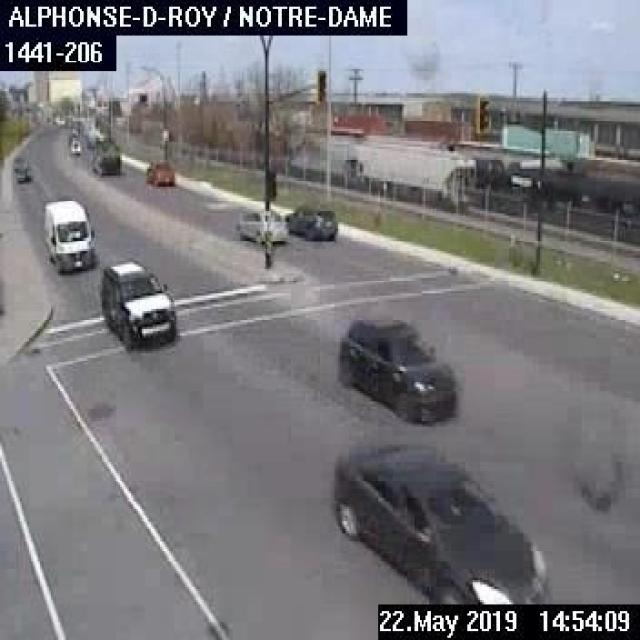vehicle: (332, 442, 545, 602), (334, 314, 456, 422), (99, 261, 174, 347), (42, 196, 94, 270), (236, 205, 288, 241), (284, 204, 337, 239), (92, 138, 119, 173), (142, 160, 174, 185), (15, 166, 30, 182), (11, 156, 26, 170), (69, 140, 80, 152)
